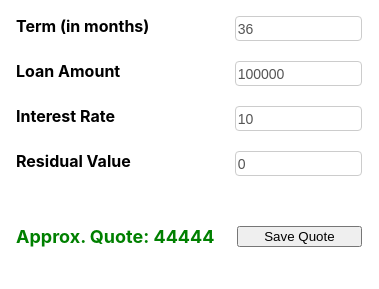
it: LoanCalculateForm component › displays error message when term is left empty
Clear the number field labelled "Term (in months)" at (298, 28), box [235,16,362,41]
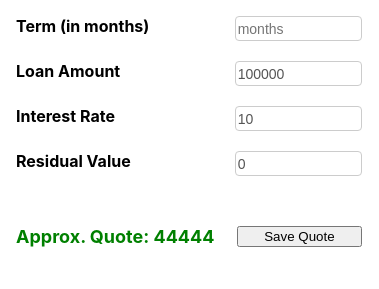
Leave the number field labelled "Term (in months)", box [235,16,362,41]
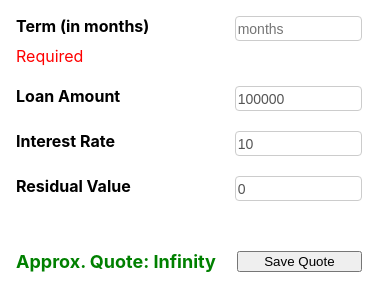
Expected: the text with test id "term-error-message" reads "Required", [16,46,83,66]
